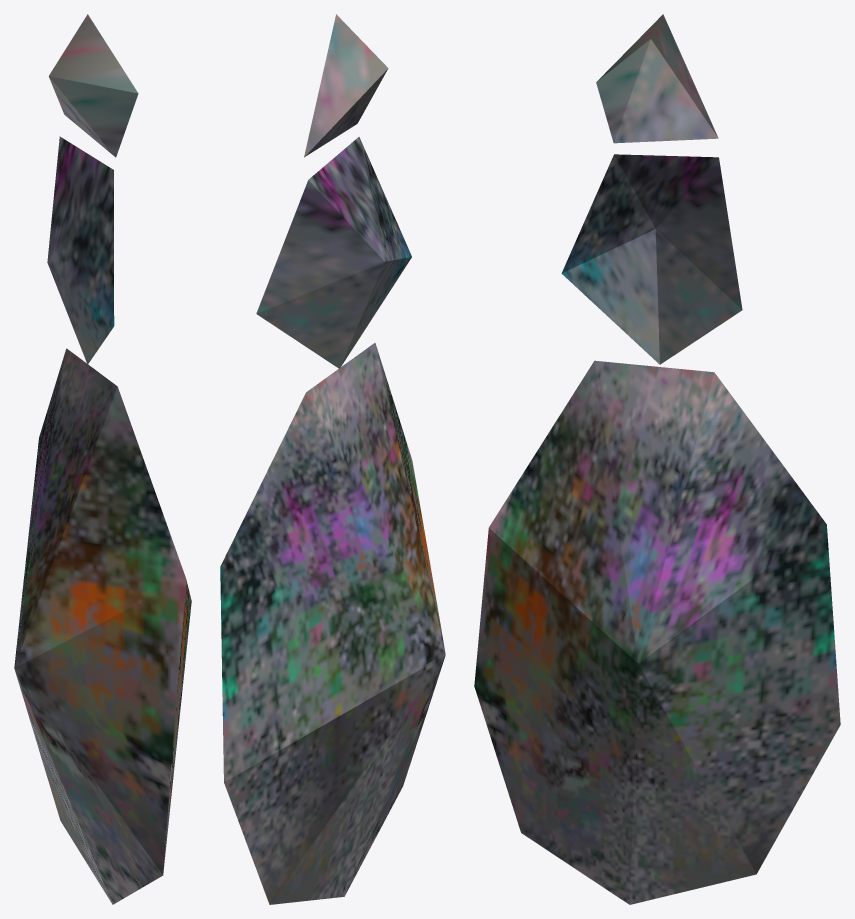
The model's file is earring_s02_l1.fbx.
3 renders of one model, left to right at view 1: azimuth 30°, elevation 25°; view 2: azimuth 150°, elevation 25°; view 3: azimuth 270°, elevation 25°, orthographic.
Parts seen in each view (by area): view 1: mesh_node; view 2: mesh_node; view 3: mesh_node.
Boxes of the visible parts, left/top/right/bottom form: mesh_node: left=14, top=14, right=191, bottom=904; mesh_node: left=220, top=14, right=445, bottom=904; mesh_node: left=474, top=14, right=840, bottom=904.
Bounding box in the file's own units: 0.0171 × 0.0789 × 0.0296.
